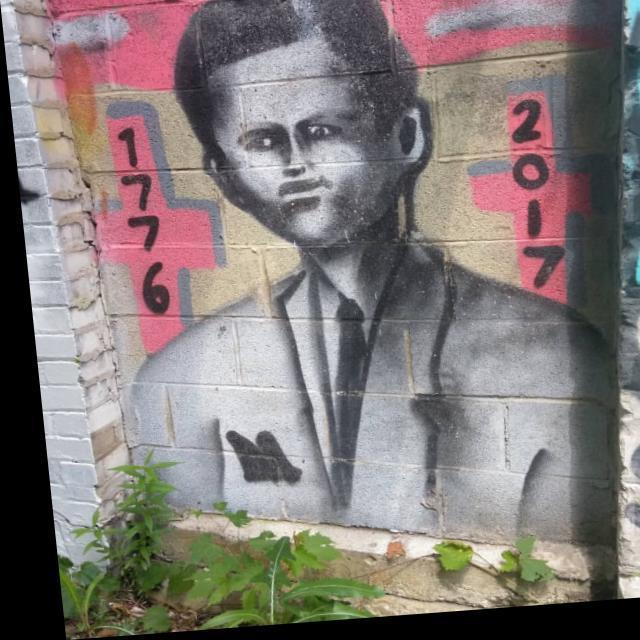nonspitting: (117, 127, 173, 318), (512, 100, 567, 289)
spitting: (128, 0, 618, 544)
